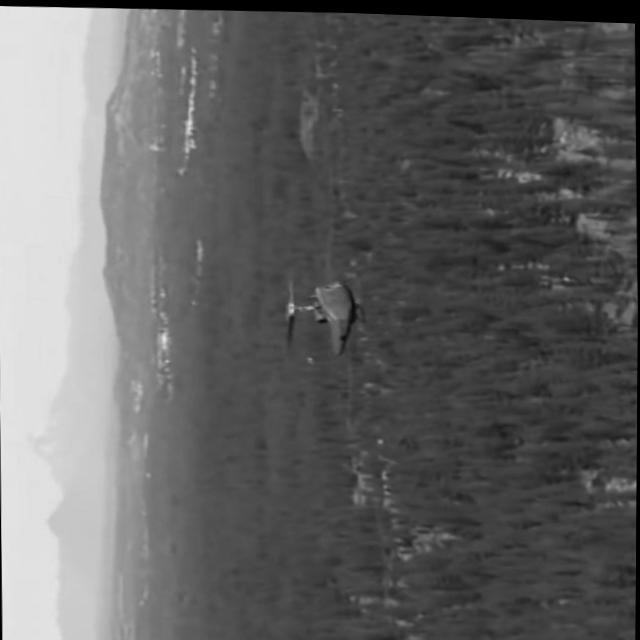helikopter: (247, 244, 372, 373)
